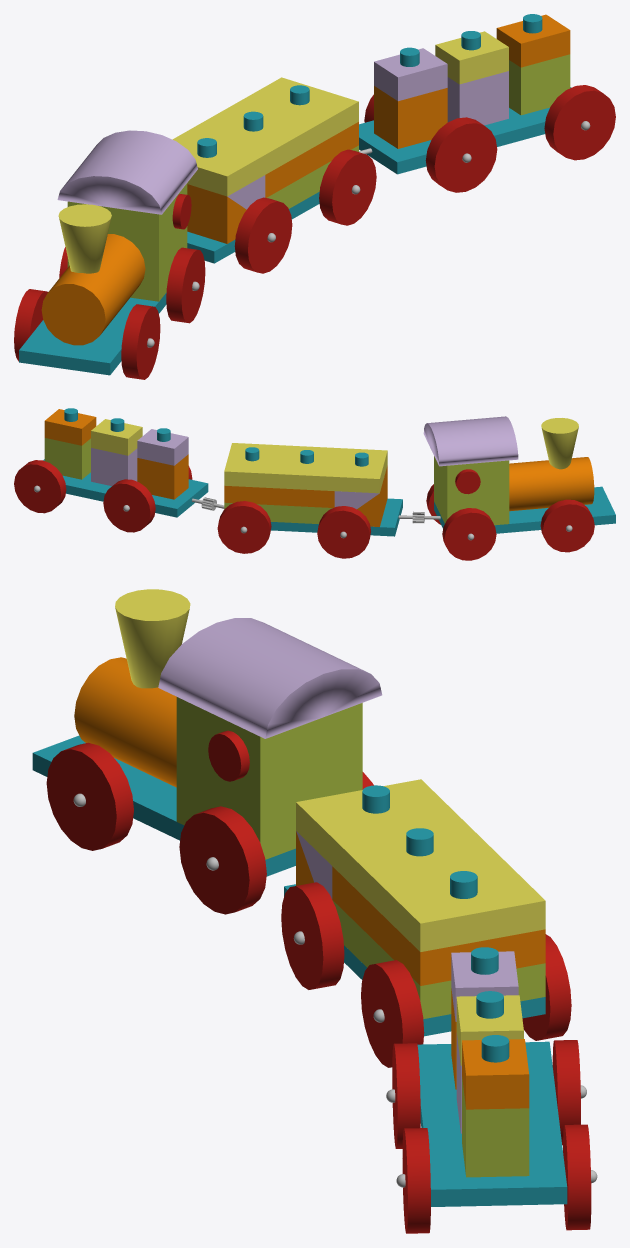
The model's file is train.glb.
The picture shows the model from 3 angles, top to bottom: view 1: azimuth 30°, elevation 25°; view 2: azimuth 150°, elevation 25°; view 3: azimuth 270°, elevation 25°; orthographic projection. The views are drawn at different scales.
Parts seen in each view (by area): view 1: Tren__Jose_Alejandro_Garcia:pCylinder6_Tren__Jose_Alejandro_ (×7), Tren__Jose_Alejandro_Garcia:pCube5_Tren__Jose_Alejandro_Garc, Tren__Jose_Alejandro_Garcia:pCube1_Tren__Jose_Alejandro_Garc (×3), Tren__Jose_Alejandro_Garcia:pCylinder3_Tren__Jose_Alejandro_, Tren__Jose_Alejandro_Garcia:pCube8_Tren__Jose_Alejandro_Garc (×3), Tren__Jose_Alejandro_Garcia:pCylinder1_Tren__Jose_Alejandro_, Tren__Jose_Alejandro_Garcia:pCube7_Tren__Jose_Alejandro_Garc (×3), Tren__Jose_Alejandro_Garcia:pCube6_Tren__Jose_Alejandro_Garc (×3), Tren__Jose_Alejandro_Garcia:pCube2_Tren__Jose_Alejandro_Garc, Tren__Jose_Alejandro_Garcia:pCone1_Tren__Jose_Alejandro_Garc, Tren__Jose_Alejandro_Garcia:pPlane2_Tren__Jose_Alejandro_Gar, Tren__Jose_Alejandro_Garcia:pCube4_Tren__Jose_Alejandro_Garc (+3 smaller); view 2: Tren__Jose_Alejandro_Garcia:pCylinder6_Tren__Jose_Alejandro_ (×6), Tren__Jose_Alejandro_Garcia:pCube5_Tren__Jose_Alejandro_Garc, Tren__Jose_Alejandro_Garcia:pCube1_Tren__Jose_Alejandro_Garc (×3), Tren__Jose_Alejandro_Garcia:pCube8_Tren__Jose_Alejandro_Garc (×3), Tren__Jose_Alejandro_Garcia:pCylinder3_Tren__Jose_Alejandro_, Tren__Jose_Alejandro_Garcia:pCylinder1_Tren__Jose_Alejandro_, Tren__Jose_Alejandro_Garcia:pCube2_Tren__Jose_Alejandro_Garc, Tren__Jose_Alejandro_Garcia:pCube7_Tren__Jose_Alejandro_Garc (×3), Tren__Jose_Alejandro_Garcia:pCube6_Tren__Jose_Alejandro_Garc (×3), Tren__Jose_Alejandro_Garcia:pCube4_Tren__Jose_Alejandro_Garc, Tren__Jose_Alejandro_Garcia:pCone1_Tren__Jose_Alejandro_Garc, Tren__Jose_Alejandro_Garcia:pCube3_Tren__Jose_Alejandro_Garc (+3 smaller); view 3: Tren__Jose_Alejandro_Garcia:pCylinder6_Tren__Jose_Alejandro_ (×9), Tren__Jose_Alejandro_Garcia:pCube5_Tren__Jose_Alejandro_Garc, Tren__Jose_Alejandro_Garcia:pCube1_Tren__Jose_Alejandro_Garc (×3), Tren__Jose_Alejandro_Garcia:pCube2_Tren__Jose_Alejandro_Garc, Tren__Jose_Alejandro_Garcia:pCylinder3_Tren__Jose_Alejandro_, Tren__Jose_Alejandro_Garcia:pCube8_Tren__Jose_Alejandro_Garc (×3), Tren__Jose_Alejandro_Garcia:pCylinder1_Tren__Jose_Alejandro_, Tren__Jose_Alejandro_Garcia:pCube4_Tren__Jose_Alejandro_Garc, Tren__Jose_Alejandro_Garcia:pCone1_Tren__Jose_Alejandro_Garc, Tren__Jose_Alejandro_Garcia:pCube3_Tren__Jose_Alejandro_Garc, Tren__Jose_Alejandro_Garcia:pCube7_Tren__Jose_Alejandro_Garc, Tren__Jose_Alejandro_Garcia:pCube6_Tren__Jose_Alejandro_Garc (+2 smaller).
Part boxes in pixels (x1,y1,x2,y2): Tren__Jose_Alejandro_Garcia:pCylinder6_Tren__Jose_Alejandro_ (×7): (14,85,615,379); Tren__Jose_Alejandro_Garcia:pCube5_Tren__Jose_Alejandro_Garc: (172,77,358,196); Tren__Jose_Alejandro_Garcia:pCube1_Tren__Jose_Alejandro_Garc (×3): (19,87,571,375); Tren__Jose_Alejandro_Garcia:pCylinder3_Tren__Jose_Alejandro_: (57,130,197,214); Tren__Jose_Alejandro_Garcia:pCube8_Tren__Jose_Alejandro_Garc (×3): (374,14,570,101); Tren__Jose_Alejandro_Garcia:pCylinder1_Tren__Jose_Alejandro_: (41,234,145,345); Tren__Jose_Alejandro_Garcia:pCube7_Tren__Jose_Alejandro_Garc (×3): (374,54,570,124); Tren__Jose_Alejandro_Garcia:pCube6_Tren__Jose_Alejandro_Garc (×3): (374,78,570,148); Tren__Jose_Alejandro_Garcia:pCube2_Tren__Jose_Alejandro_Garc: (67,183,187,301); Tren__Jose_Alejandro_Garcia:pCone1_Tren__Jose_Alejandro_Garc: (58,204,111,273); Tren__Jose_Alejandro_Garcia:pPlane2_Tren__Jose_Alejandro_Gar: (187,184,246,243); Tren__Jose_Alejandro_Garcia:pCube4_Tren__Jose_Alejandro_Garc: (265,122,358,197); Tren__Jose_Alejandro_Garcia:pCylinder6_Tren__Jose_Alejandro_ (×6): (14,460,594,560); Tren__Jose_Alejandro_Garcia:pCube5_Tren__Jose_Alejandro_Garc: (224,443,387,493); Tren__Jose_Alejandro_Garcia:pCube1_Tren__Jose_Alejandro_Garc (×3): (43,459,615,536); Tren__Jose_Alejandro_Garcia:pCube8_Tren__Jose_Alejandro_Garc (×3): (44,409,188,465); Tren__Jose_Alejandro_Garcia:pCylinder3_Tren__Jose_Alejandro_: (423,416,518,466); Tren__Jose_Alejandro_Garcia:pCylinder1_Tren__Jose_Alejandro_: (509,457,594,511); Tren__Jose_Alejandro_Garcia:pCube2_Tren__Jose_Alejandro_Garc: (434,456,509,525); Tren__Jose_Alejandro_Garcia:pCube7_Tren__Jose_Alejandro_Garc (×3): (44,438,188,482); Tren__Jose_Alejandro_Garcia:pCube6_Tren__Jose_Alejandro_Garc (×3): (44,455,188,499); Tren__Jose_Alejandro_Garcia:pCube4_Tren__Jose_Alejandro_Garc: (224,485,334,507); Tren__Jose_Alejandro_Garcia:pCone1_Tren__Jose_Alejandro_Garc: (541,418,578,469); Tren__Jose_Alejandro_Garcia:pCube3_Tren__Jose_Alejandro_Garc: (224,502,332,523); Tren__Jose_Alejandro_Garcia:pCylinder6_Tren__Jose_Alejandro_ (×9): (46,742,591,1233); Tren__Jose_Alejandro_Garcia:pCube5_Tren__Jose_Alejandro_Garc: (296,779,545,951); Tren__Jose_Alejandro_Garcia:pCube1_Tren__Jose_Alejandro_Garc (×3): (32,735,567,1206); Tren__Jose_Alejandro_Garcia:pCube2_Tren__Jose_Alejandro_Garc: (176,697,362,859); Tren__Jose_Alejandro_Garcia:pCylinder3_Tren__Jose_Alejandro_: (158,618,382,738); Tren__Jose_Alejandro_Garcia:pCube8_Tren__Jose_Alejandro_Garc (×3): (451,951,529,1109); Tren__Jose_Alejandro_Garcia:pCylinder1_Tren__Jose_Alejandro_: (74,657,176,787); Tren__Jose_Alejandro_Garcia:pCube4_Tren__Jose_Alejandro_Garc: (332,866,545,985); Tren__Jose_Alejandro_Garcia:pCone1_Tren__Jose_Alejandro_Garc: (115,589,190,688); Tren__Jose_Alejandro_Garcia:pCube3_Tren__Jose_Alejandro_Garc: (332,900,545,1018); Tren__Jose_Alejandro_Garcia:pCube7_Tren__Jose_Alejandro_Garc: (462,1077,529,1143); Tren__Jose_Alejandro_Garcia:pCube6_Tren__Jose_Alejandro_Garc: (462,1111,529,1177).
Size of the model in its own units: 2.85 by 0.642 by 1.42.
